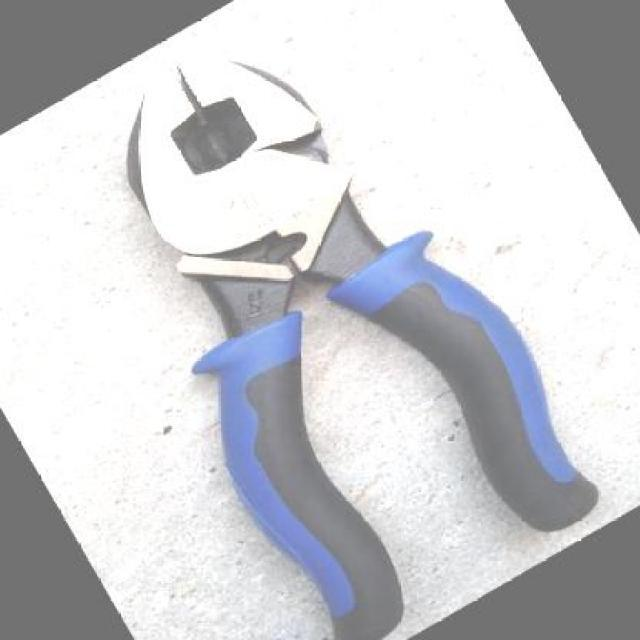pliers: (4, 0, 638, 638)
